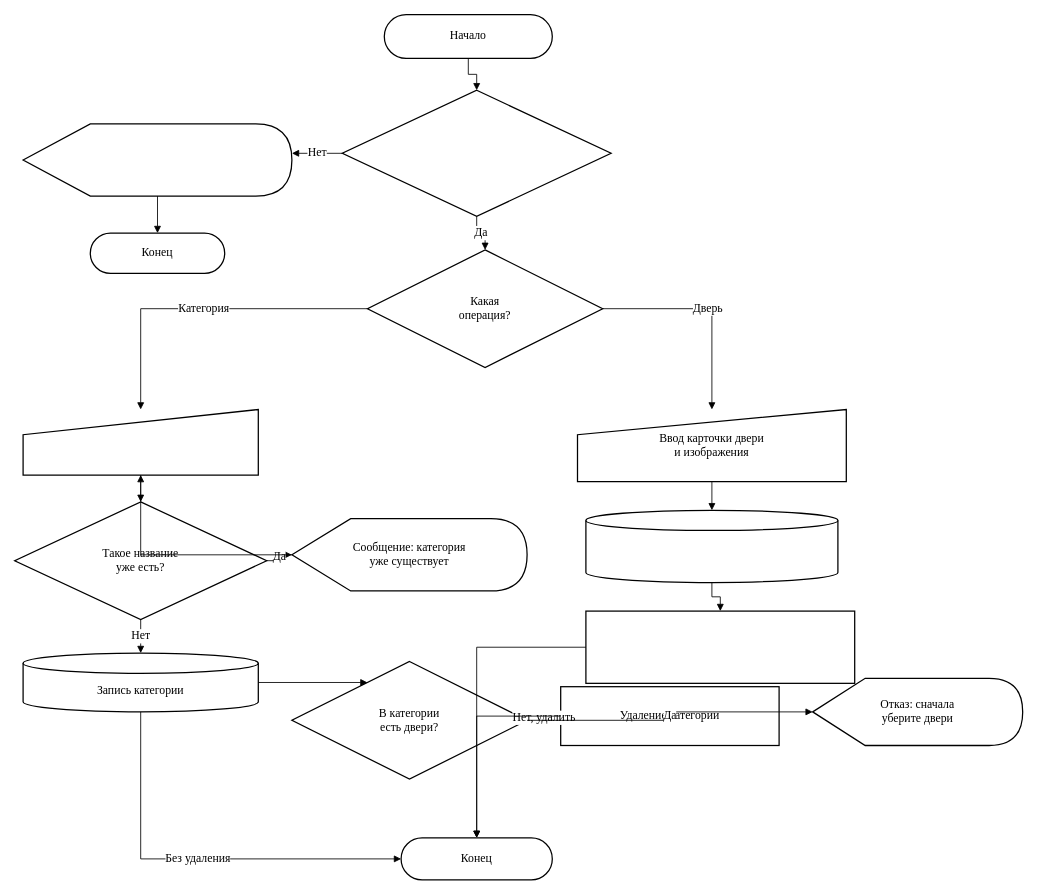
Image size: 1038x895. Some labels were removed from this diagram. The shapes that lost their labels are listed below. From the top down, each one's centre as x and y in pixels, then its label:
At pixel 157 159: "Вывод каталога по категориям из БД".
At pixel 476 153: "Пользователь — администратор?".
At pixel 140 441: "Ввод названия категории".
At pixel 711 546: "Запись двери в выбранную категорию".
At pixel 720 647: "Удаление двери. В заказах остаётся цена".
